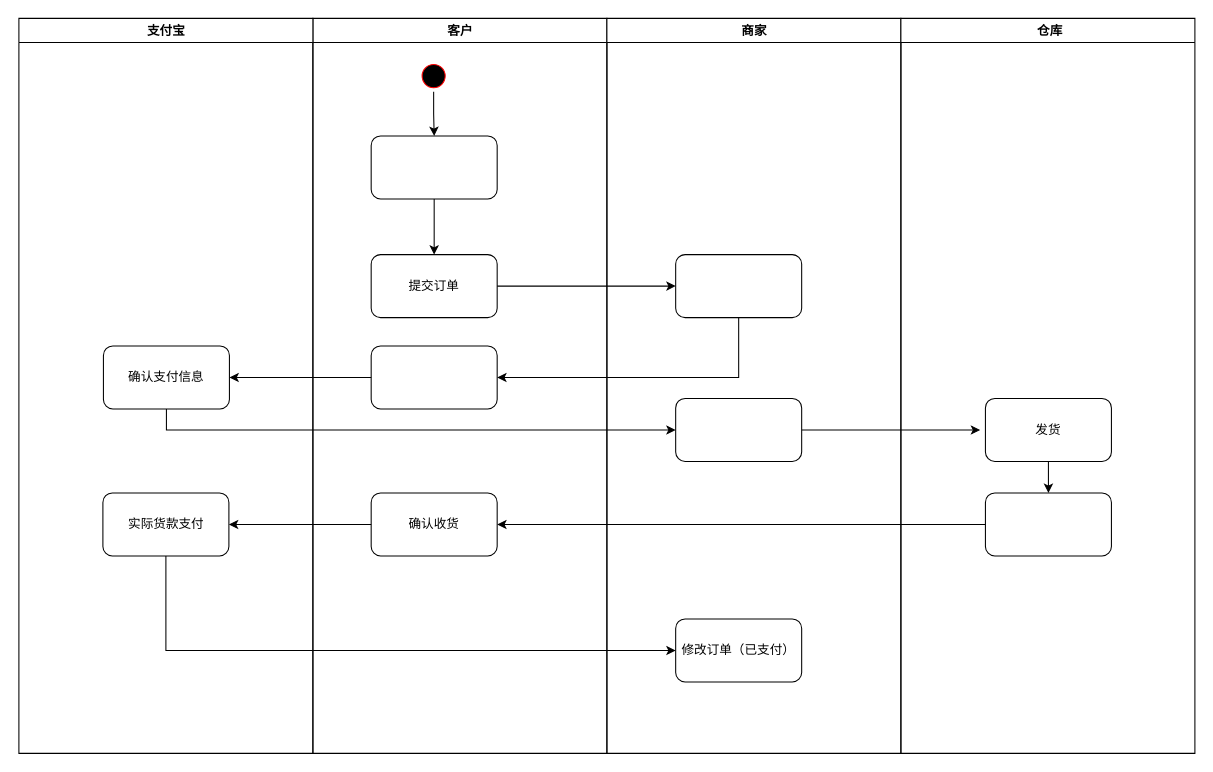
The diagram is 1213 pixels wide and 772 high, and some of its shapes have lost their labels. The centre of each missing label's shape, as x and y in pixels:
"修改订单(确认支付)" belongs at (x=738, y=429).
"支付" belongs at (x=433, y=377).
"生成订单（未支付）" belongs at (x=738, y=286).
"送达" belongs at (x=1047, y=524).
"选择商品" belongs at (x=433, y=167).
